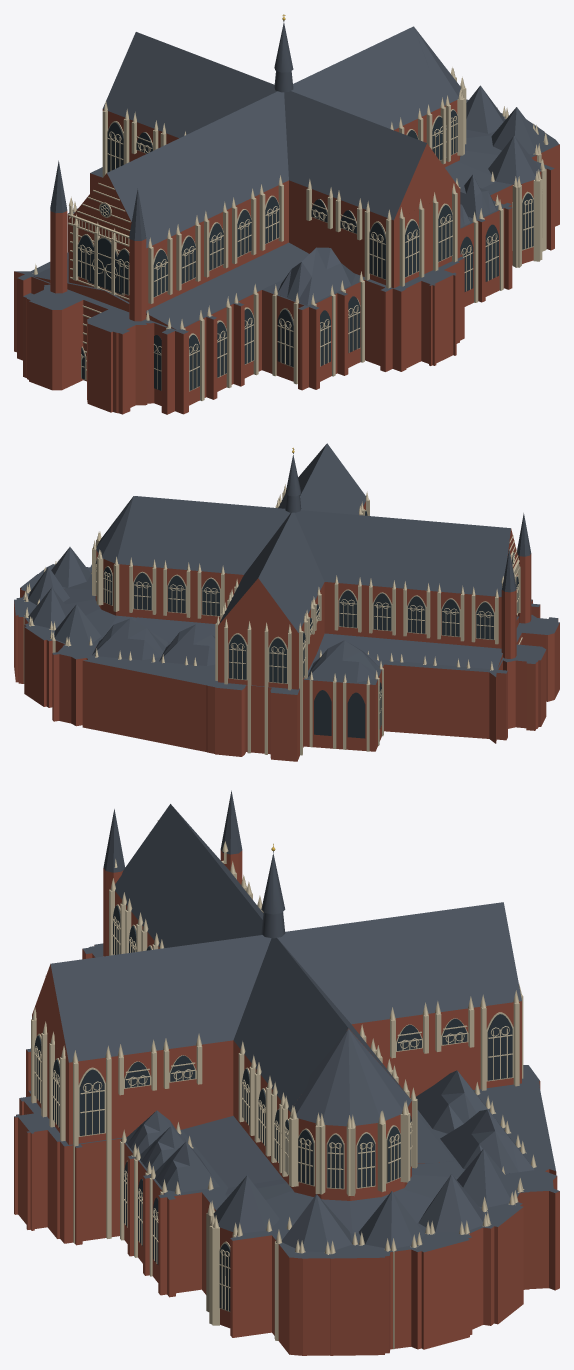
Rendered from nieuwe-kerk.glb.
3 views of the same model, one above another, from view 1: azimuth 30°, elevation 25°; view 2: azimuth 150°, elevation 25°; view 3: azimuth 270°, elevation 25° (orthographic). The views are drawn at different scales.
Parts seen in each view (by area): view 1: nieuwe-kerk; view 2: nieuwe-kerk; view 3: nieuwe-kerk.
Part boxes in pixels (left/top/right/bottom): nieuwe-kerk: left=14, top=14, right=559, bottom=414; nieuwe-kerk: left=14, top=443, right=559, bottom=761; nieuwe-kerk: left=14, top=790, right=559, bottom=1355.
Bounding box in the file's own units: 94.96 × 46 × 66.12.
